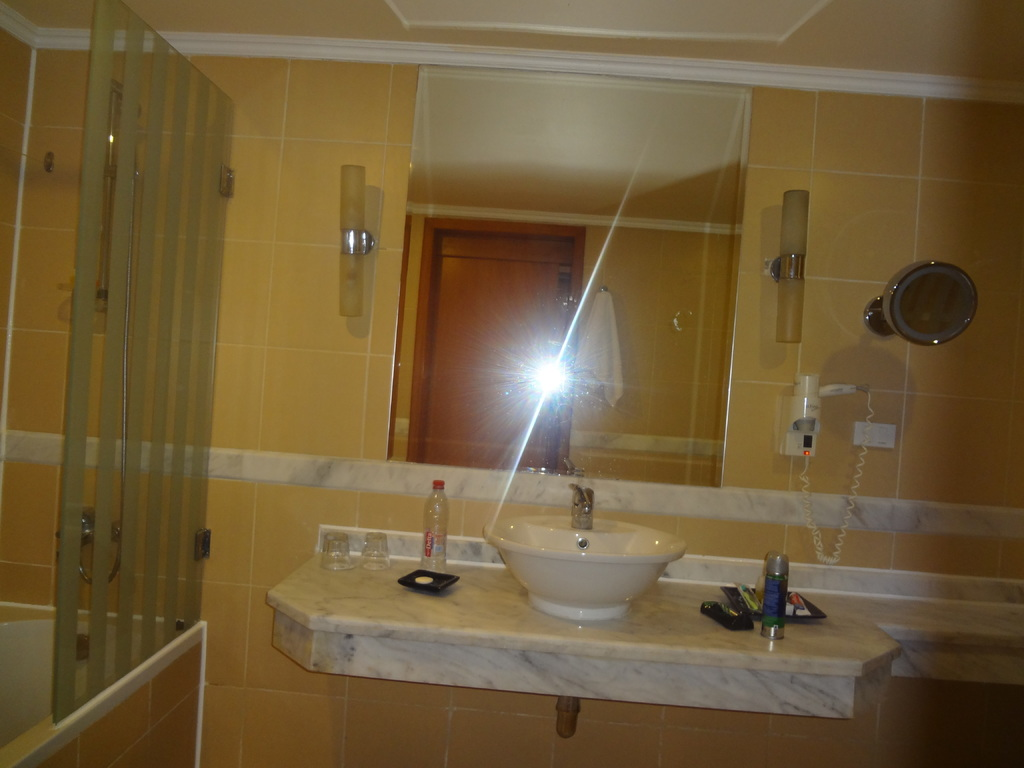tap: (570, 481, 593, 528)
